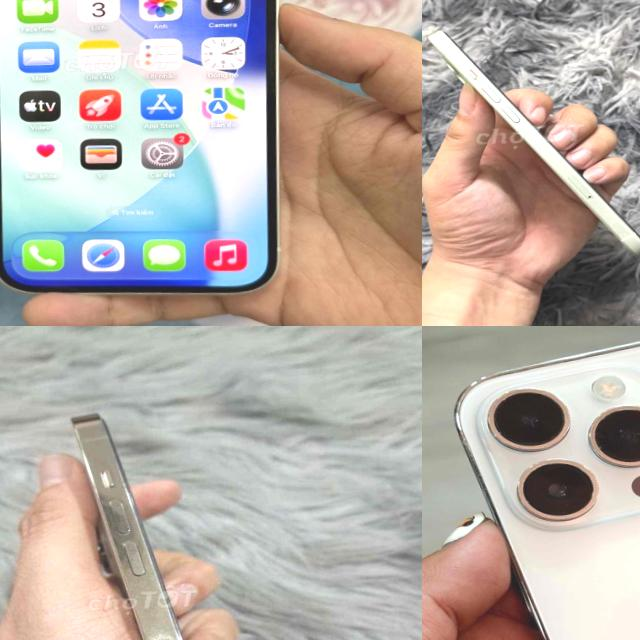scratch: (134, 616, 208, 640)
